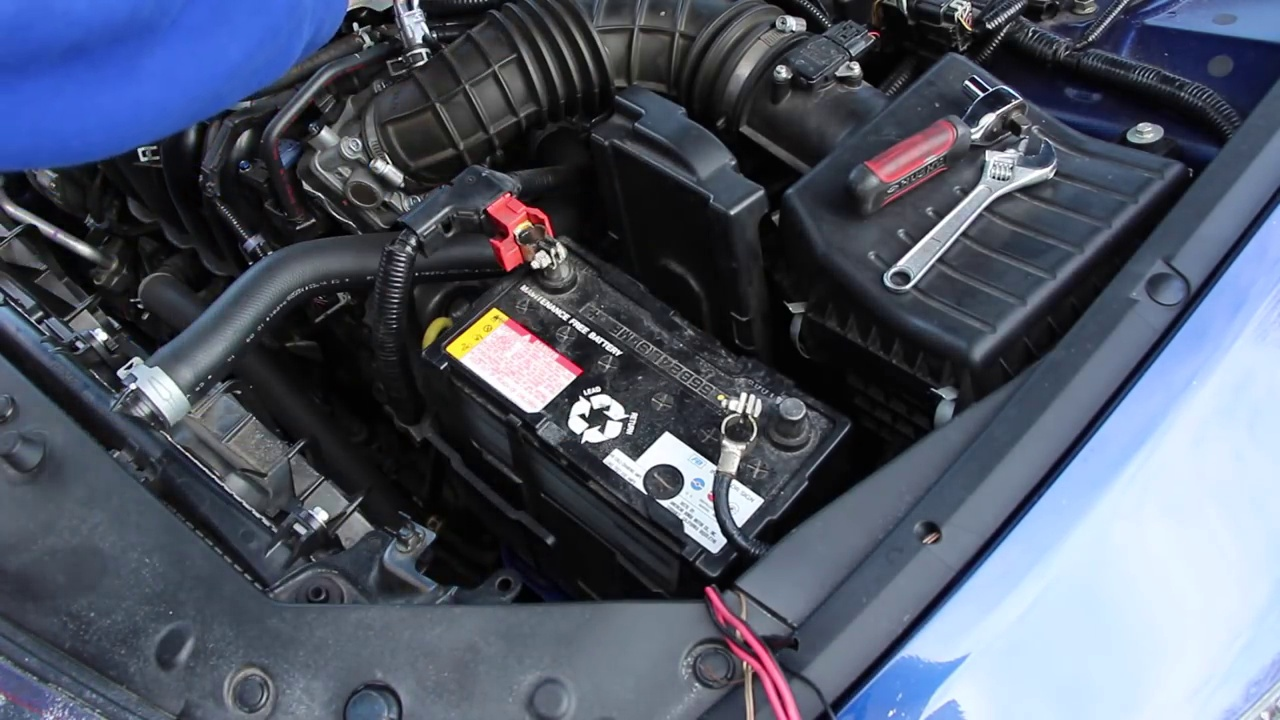battery: (424, 220, 848, 576)
neg_disconnected: (687, 343, 817, 465)
pos_connected: (442, 177, 572, 297)
